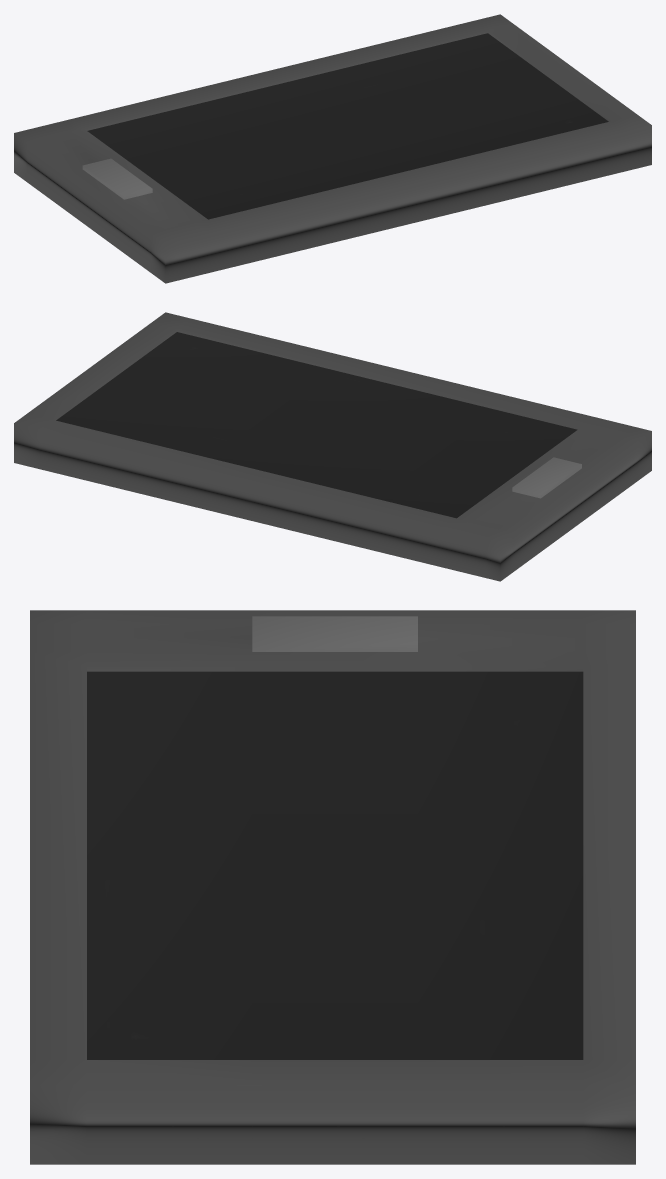
The model's file is GSM.fbx.
The picture shows the model from 3 angles, top to bottom: view 1: azimuth 30°, elevation 25°; view 2: azimuth 150°, elevation 25°; view 3: azimuth 270°, elevation 25°; orthographic projection. The views are drawn at different scales.
Visible parts, largest first — view 1: Cube; view 2: Cube; view 3: Cube.
Boxes of the visible parts, left/top/right/bottom form: Cube: left=14, top=14, right=651, bottom=283; Cube: left=14, top=312, right=651, bottom=581; Cube: left=30, top=610, right=635, bottom=1164.
Size of the model in its own units: 160 by 13.75 by 86.32.
